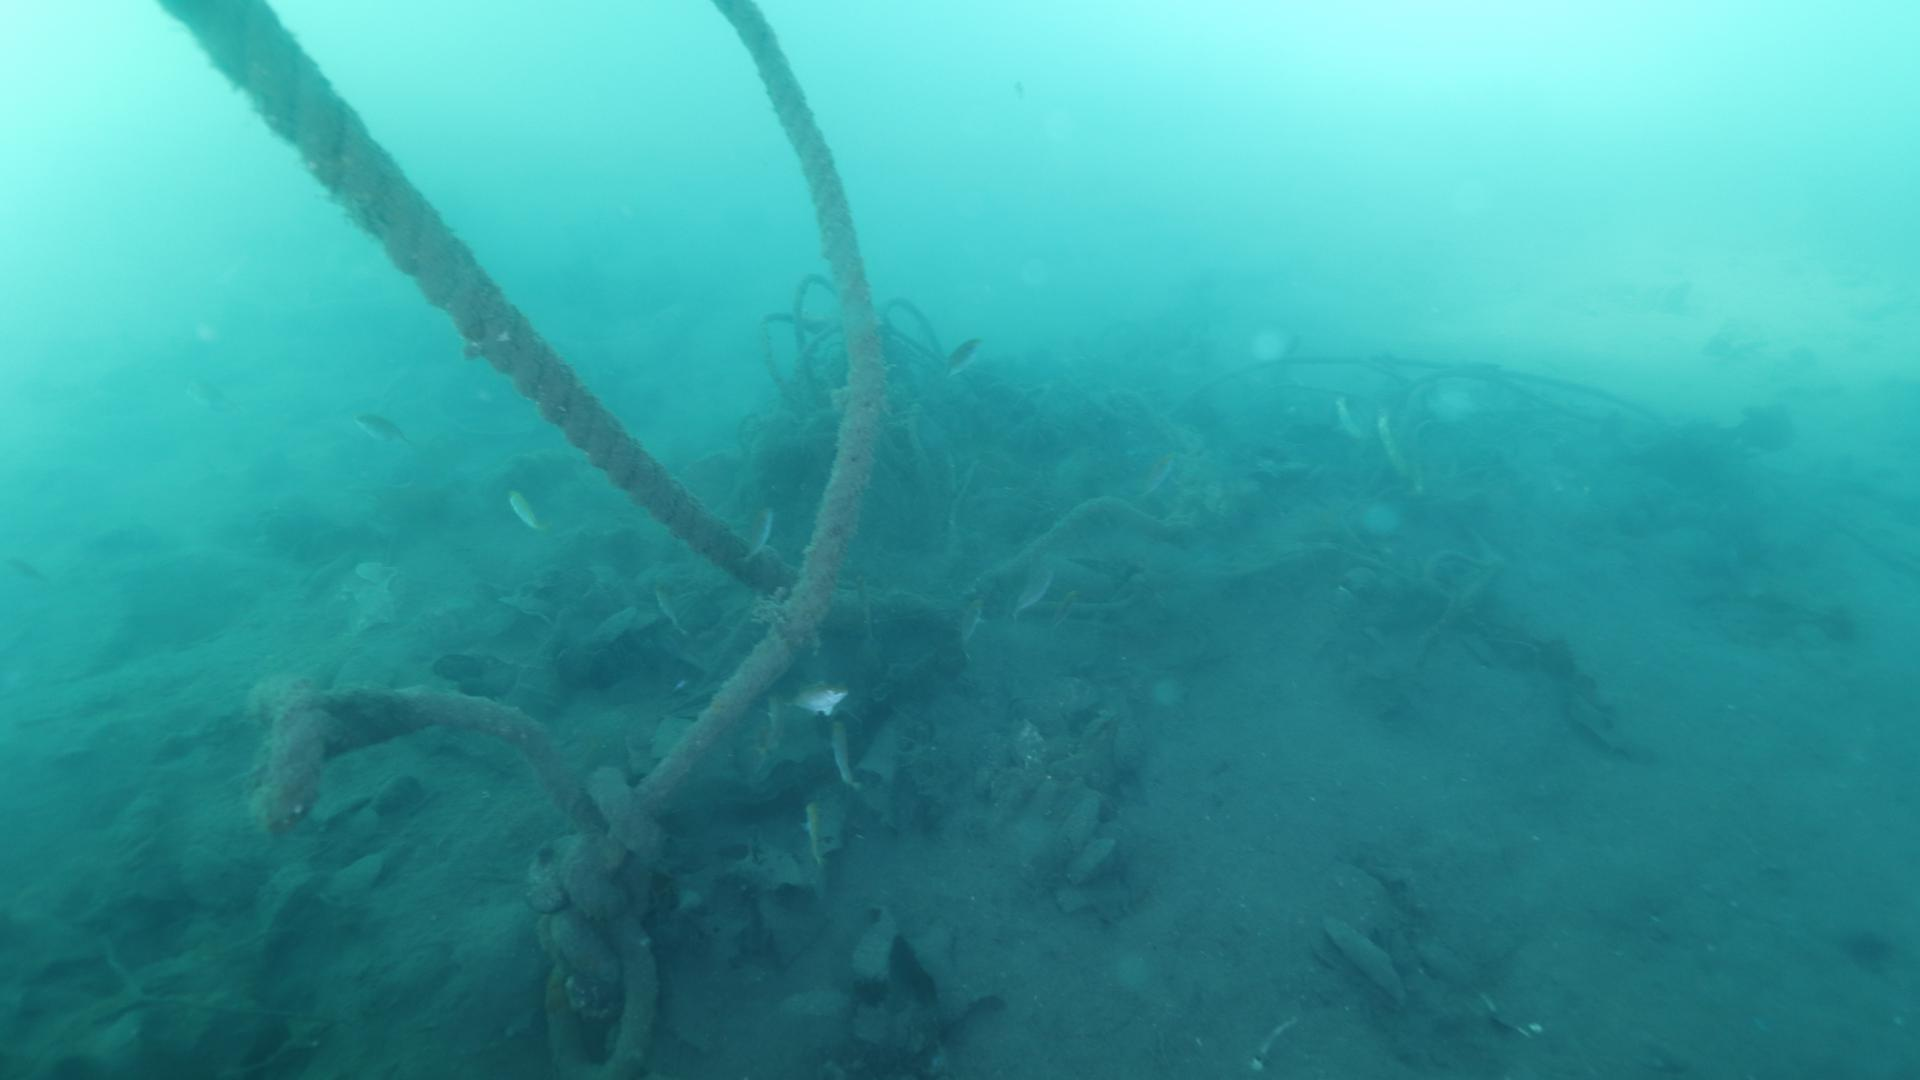bundle of ropes: (145, 0, 889, 1080)
